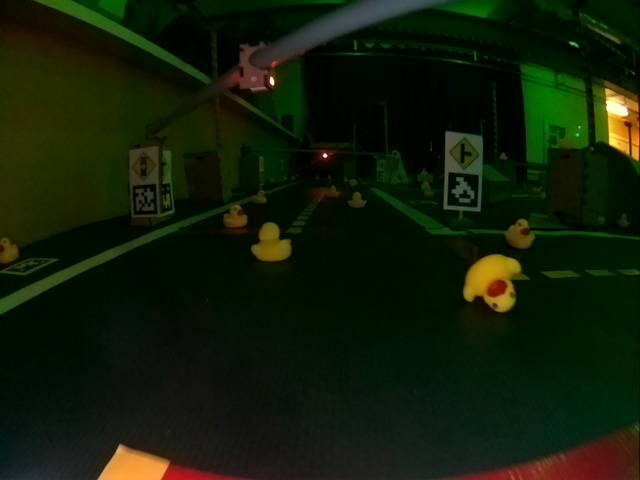Duckie: (463, 255, 522, 312), (251, 222, 292, 262), (506, 218, 536, 249), (223, 205, 248, 228), (2, 235, 18, 264), (348, 192, 367, 209), (253, 190, 267, 204), (325, 185, 340, 197)
Intersection sign: (448, 135, 482, 167)
QR code: (446, 177, 480, 209), (10, 256, 58, 276), (133, 184, 155, 217)
Signal sign: (131, 151, 156, 182)
Traffic light: (238, 40, 276, 92)
